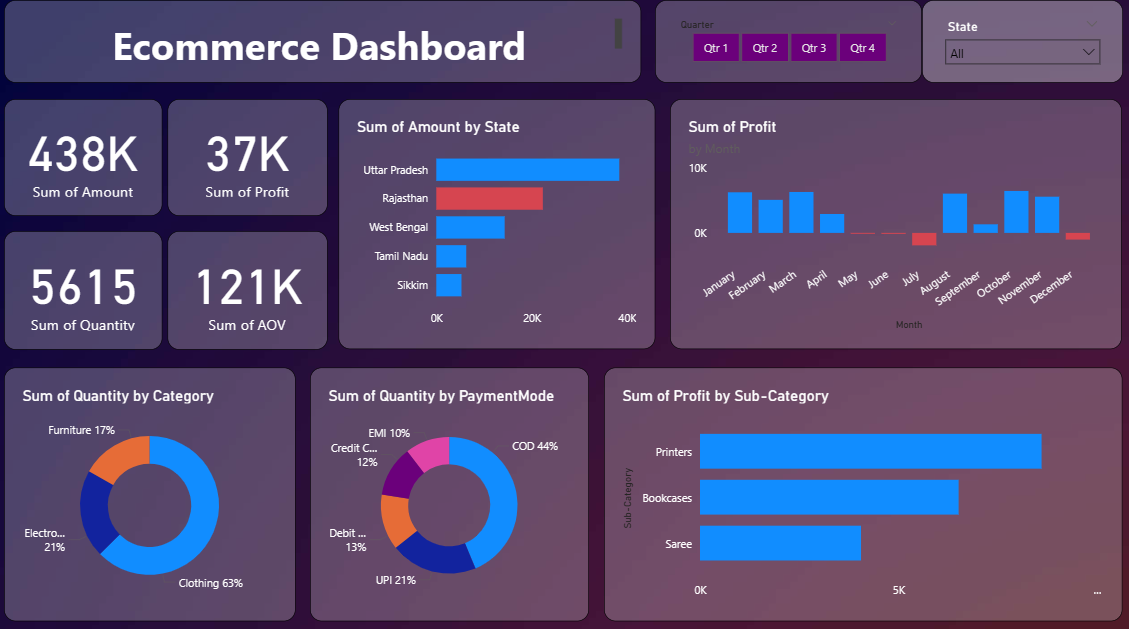

This screenshot's page, from the dashboard's own definition file:
{"tool":"powerbi","page":{"name":"Page 1","canvas":[1280,720],"ordinal":0},"visuals":[{"type":"textbox","box":[10,0,708,92],"z":0},{"type":"columnChart","fields":{"Category":["Orders.Order Date.Variation.Date Hierarchy.Month"],"Y":["Sum(Details.Profit)"]},"box":[750,110,502,278],"z":1000},{"type":"barChart","fields":{"Category":["Details.Sub-Category"],"Y":["Sum(Details.Profit)"]},"box":[676,408,576,282],"z":2000},{"type":"donutChart","fields":{"Y":["Sum(Details.Quantity)"],"Category":["Details.Category"]},"box":[10,408,324,282],"z":3000},{"type":"donutChart","fields":{"Category":["Details.PaymentMode"],"Y":["Sum(Details.Quantity)"]},"box":[350,408,310,282],"z":3001},{"type":"card","fields":{"Values":["Sum(Details.Amount)"]},"box":[10,110,176,130],"z":3002},{"type":"card","fields":{"Values":["Sum(Details.Profit)"]},"box":[192,110,178,130],"z":3003},{"type":"card","fields":{"Values":["Sum(Details.Quantity)"]},"box":[10,256,176,132],"z":3004},{"type":"card","fields":{"Values":["Sum(Details.AOV)"]},"box":[192,256,178,132],"z":3005},{"type":"barChart","fields":{"Category":["Orders.State"],"Y":["Sum(Details.Amount)"]},"box":[382,110,352,278],"z":3006},{"type":"slicer","fields":{"Values":["Orders.Order Date.Variation.Date Hierarchy.Quarter"]},"box":[733.3,0,296.7,91.7],"z":3007},{"type":"slicer","fields":{"Values":["Orders.State"]},"box":[1030,0,223.3,91.7],"z":3008}]}

Visuals, with their boxes in screenshot pixels (x1, y1, x2, y2), scaled from the page's 1280x720 canvas onto the 1129x629 screenshot:
textbox: (9, 0, 633, 80)
columnChart - Orders.Order Date.Variation.Date Hierarchy.Month x Sum(Details.Profit): (662, 96, 1104, 339)
barChart - Details.Sub-Category x Sum(Details.Profit): (596, 356, 1104, 603)
donutChart - Sum(Details.Quantity) x Details.Category: (9, 356, 295, 603)
donutChart - Details.PaymentMode x Sum(Details.Quantity): (309, 356, 582, 603)
card - Sum(Details.Amount): (9, 96, 164, 210)
card - Sum(Details.Profit): (169, 96, 326, 210)
card - Sum(Details.Quantity): (9, 224, 164, 339)
card - Sum(Details.AOV): (169, 224, 326, 339)
barChart - Orders.State x Sum(Details.Amount): (337, 96, 647, 339)
slicer - Orders.Order Date.Variation.Date Hierarchy.Quarter: (647, 0, 908, 80)
slicer - Orders.State: (908, 0, 1105, 80)
